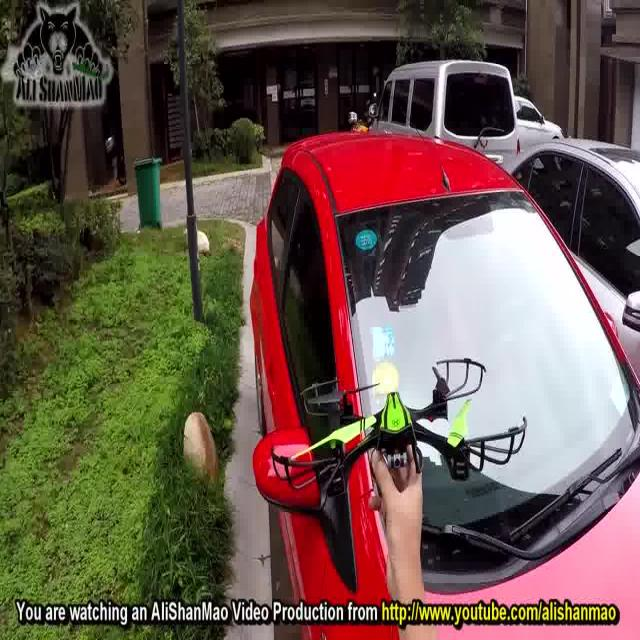drones: (266, 349, 533, 524)
